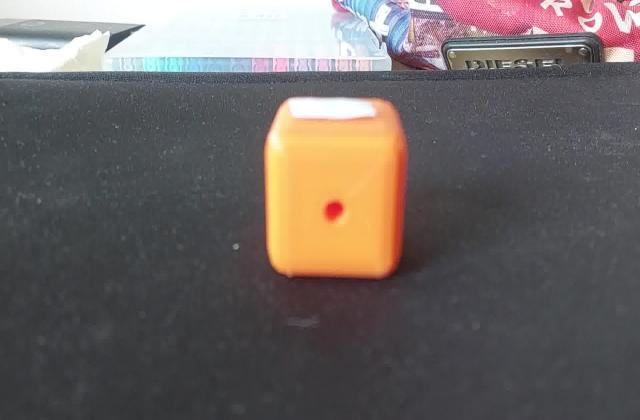cube: (262, 98, 412, 284)
white: (286, 99, 381, 125)
